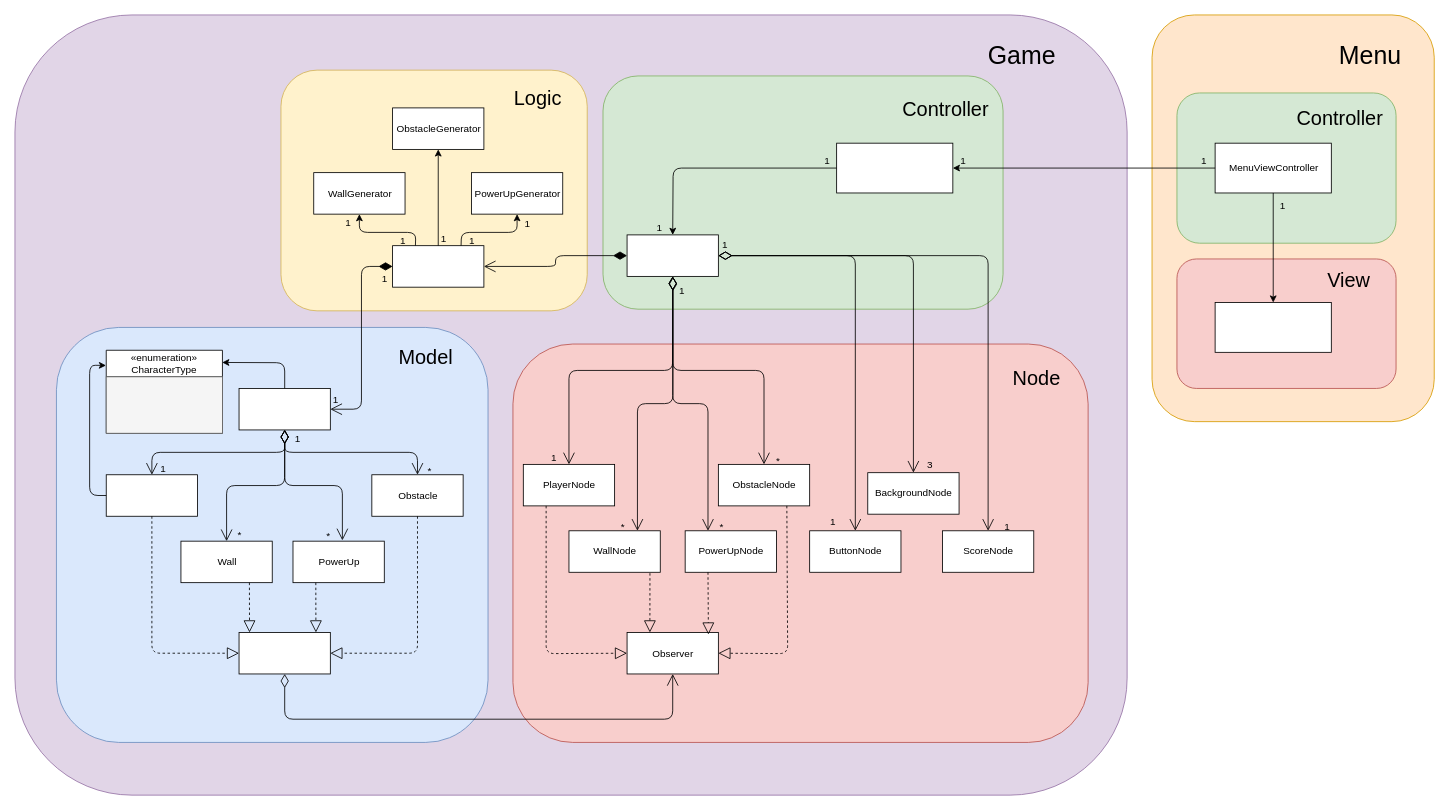
This 1448x809 diagram has some shape labels left out. The box of each missing label's shape, as (x1, y1, x2, y2) in pixels:
arrow runner tapper glidder: (105, 376, 222, 433)
GameEngine: (392, 245, 484, 287)
GameModel: (238, 388, 330, 430)
GameScene: (626, 234, 718, 276)
GameViewController: (836, 142, 953, 193)
Player: (105, 474, 198, 516)
UIButtons: (1214, 302, 1331, 352)
«protocol» Observeable: (238, 632, 330, 674)
